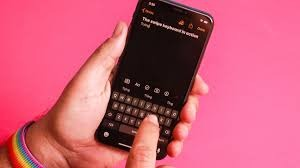keyboard: (106, 91, 178, 155)
